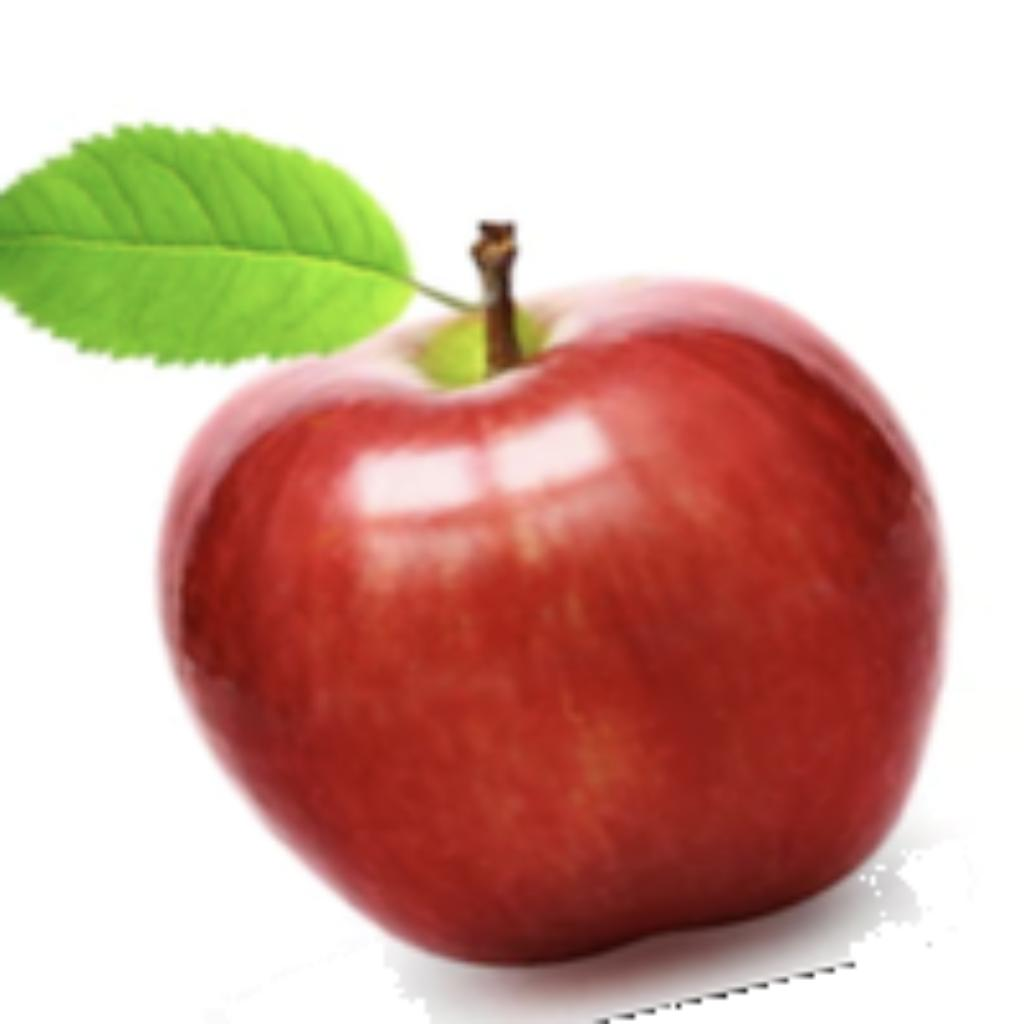apple: (0, 113, 952, 1019)
